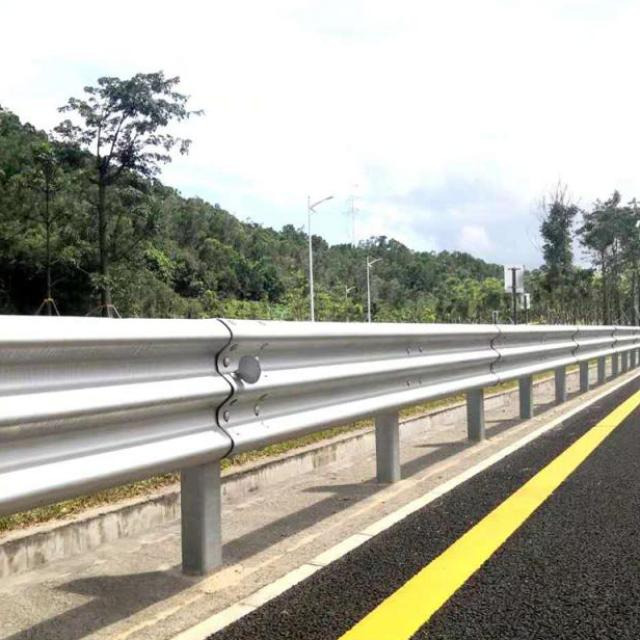Guard rail: (0, 316, 640, 574)
